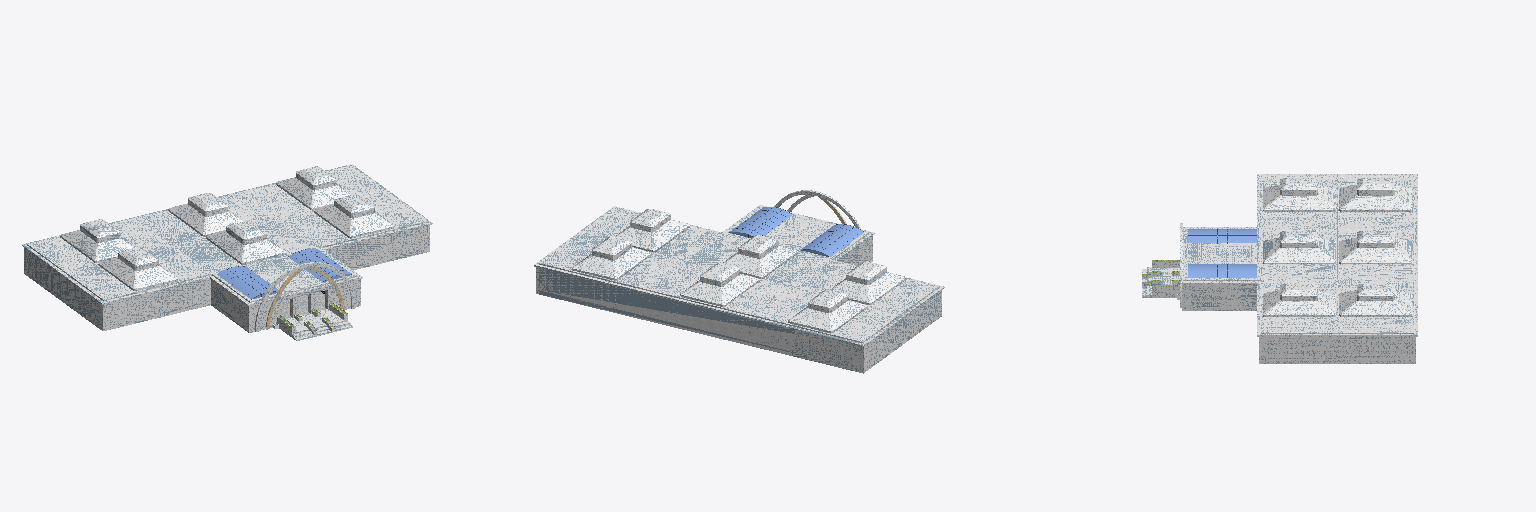
3 views of the same model, side by side, from view 1: azimuth 30°, elevation 25°; view 2: azimuth 150°, elevation 25°; view 3: azimuth 270°, elevation 25° (orthographic).
Parts seen in each view (by area): view 1: Mesh10 Group3 Model, Mesh23 Group5 Pi_ce_Standard_4_1 Model, Mesh264 Group54 Pi_ce_Standard_4_6 Model, Mesh201 Group45 Pi_ce_Standard_4_3 Model, Mesh180 Group42 Pi_ce_Standard_4_2 Model, Mesh243 Group51 Pi_ce_Standard_4_5 Model, Mesh222 Group48 Pi_ce_Standard_4_4 Model, Mesh7 Group2 Model, Mesh1 Group1 Model, Mesh50 Group10 Group9 Pi_ce_Standard_5_1 Model, Mesh4 Diff_rence Model, Mesh54 Group11 Arche_compl_te_01_1 Group9 Pi_ce_Standard_5_1 Mod (+1 smaller); view 2: Mesh10 Group3 Model, Mesh180 Group42 Pi_ce_Standard_4_2 Model, Mesh222 Group48 Pi_ce_Standard_4_4 Model, Mesh243 Group51 Pi_ce_Standard_4_5 Model, Mesh23 Group5 Pi_ce_Standard_4_1 Model, Mesh264 Group54 Pi_ce_Standard_4_6 Model, Mesh201 Group45 Pi_ce_Standard_4_3 Model, Mesh1 Group1 Model, Mesh50 Group10 Group9 Pi_ce_Standard_5_1 Model, Mesh7 Group2 Model, Mesh54 Group11 Arche_compl_te_01_1 Group9 Pi_ce_Standard_5_1 Mod, Mesh108 Group26 Arche_compl_te_01_2 Group9 Pi_ce_Standard_5_1 Mo (+1 smaller); view 3: Mesh10 Group3 Model, Mesh264 Group54 Pi_ce_Standard_4_6 Model, Mesh243 Group51 Pi_ce_Standard_4_5 Model, Mesh201 Group45 Pi_ce_Standard_4_3 Model, Mesh222 Group48 Pi_ce_Standard_4_4 Model, Mesh23 Group5 Pi_ce_Standard_4_1 Model, Mesh180 Group42 Pi_ce_Standard_4_2 Model, Mesh50 Group10 Group9 Pi_ce_Standard_5_1 Model, Mesh1 Group1 Model, Mesh7 Group2 Model, Mesh108 Group26 Arche_compl_te_01_2 Group9 Pi_ce_Standard_5_1 Mo, Mesh54 Group11 Arche_compl_te_01_1 Group9 Pi_ce_Standard_5_1 Mod.
Part boxes in pixels (left/top/right/bottom): Mesh10 Group3 Model: left=24, top=225, right=429, bottom=332; Mesh23 Group5 Pi_ce_Standard_4_1 Model: left=65, top=246, right=211, bottom=300; Mesh264 Group54 Pi_ce_Standard_4_6 Model: left=281, top=193, right=427, bottom=247; Mesh201 Group45 Pi_ce_Standard_4_3 Model: left=174, top=219, right=318, bottom=273; Mesh180 Group42 Pi_ce_Standard_4_2 Model: left=27, top=218, right=172, bottom=272; Mesh243 Group51 Pi_ce_Standard_4_5 Model: left=243, top=165, right=388, bottom=218; Mesh222 Group48 Pi_ce_Standard_4_4 Model: left=135, top=191, right=279, bottom=245; Mesh7 Group2 Model: left=24, top=248, right=429, bottom=340; Mesh1 Group1 Model: left=22, top=164, right=432, bottom=305; Mesh50 Group10 Group9 Pi_ce_Standard_5_1 Model: left=212, top=247, right=357, bottom=302; Mesh4 Diff_rence Model: left=255, top=262, right=355, bottom=331; Mesh54 Group11 Arche_compl_te_01_1 Group9 Pi_ce_Standard_5_1 Mod: left=217, top=266, right=278, bottom=298; Mesh10 Group3 Model: left=536, top=236, right=941, bottom=368; Mesh180 Group42 Pi_ce_Standard_4_2 Model: left=755, top=288, right=900, bottom=342; Mesh222 Group48 Pi_ce_Standard_4_4 Model: left=647, top=261, right=791, bottom=316; Mesh243 Group51 Pi_ce_Standard_4_5 Model: left=539, top=235, right=684, bottom=290; Mesh23 Group5 Pi_ce_Standard_4_1 Model: left=794, top=260, right=939, bottom=314; Mesh264 Group54 Pi_ce_Standard_4_6 Model: left=578, top=207, right=722, bottom=260; Mesh201 Group45 Pi_ce_Standard_4_3 Model: left=686, top=233, right=830, bottom=287; Mesh1 Group1 Model: left=534, top=205, right=944, bottom=346; Mesh50 Group10 Group9 Pi_ce_Standard_5_1 Model: left=724, top=205, right=869, bottom=259; Mesh7 Group2 Model: left=536, top=257, right=941, bottom=373; Mesh54 Group11 Arche_compl_te_01_1 Group9 Pi_ce_Standard_5_1 Mod: left=801, top=224, right=863, bottom=256; Mesh108 Group26 Arche_compl_te_01_2 Group9 Pi_ce_Standard_5_1 Mo: left=730, top=207, right=792, bottom=237; Mesh10 Group3 Model: left=1152, top=260, right=1415, bottom=358; Mesh264 Group54 Pi_ce_Standard_4_6 Model: left=1261, top=280, right=1337, bottom=333; Mesh243 Group51 Pi_ce_Standard_4_5 Model: left=1338, top=280, right=1413, bottom=333; Mesh201 Group45 Pi_ce_Standard_4_3 Model: left=1261, top=227, right=1337, bottom=279; Mesh222 Group48 Pi_ce_Standard_4_4 Model: left=1338, top=227, right=1413, bottom=279; Mesh23 Group5 Pi_ce_Standard_4_1 Model: left=1261, top=175, right=1337, bottom=226; Mesh180 Group42 Pi_ce_Standard_4_2 Model: left=1338, top=175, right=1413, bottom=226; Mesh50 Group10 Group9 Pi_ce_Standard_5_1 Model: left=1184, top=227, right=1260, bottom=280; Mesh1 Group1 Model: left=1181, top=174, right=1417, bottom=336; Mesh7 Group2 Model: left=1142, top=267, right=1415, bottom=363; Mesh108 Group26 Arche_compl_te_01_2 Group9 Pi_ce_Standard_5_1 Mo: left=1188, top=264, right=1256, bottom=277; Mesh54 Group11 Arche_compl_te_01_1 Group9 Pi_ce_Standard_5_1 Mod: left=1188, top=229, right=1256, bottom=242.
Size of the model in its own units: 39.8 by 6.43 by 28.8.
Materials: 9 (4 with a texture image).